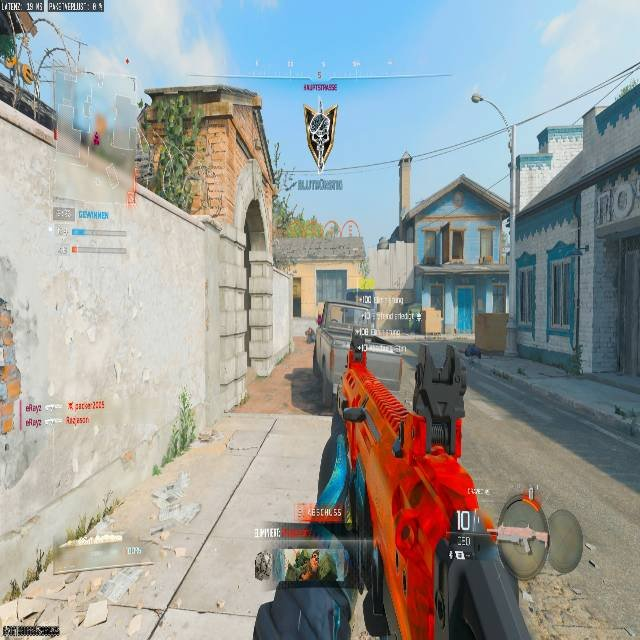head: (288, 535, 351, 585)
player: (245, 534, 355, 639), (304, 326, 315, 344)
